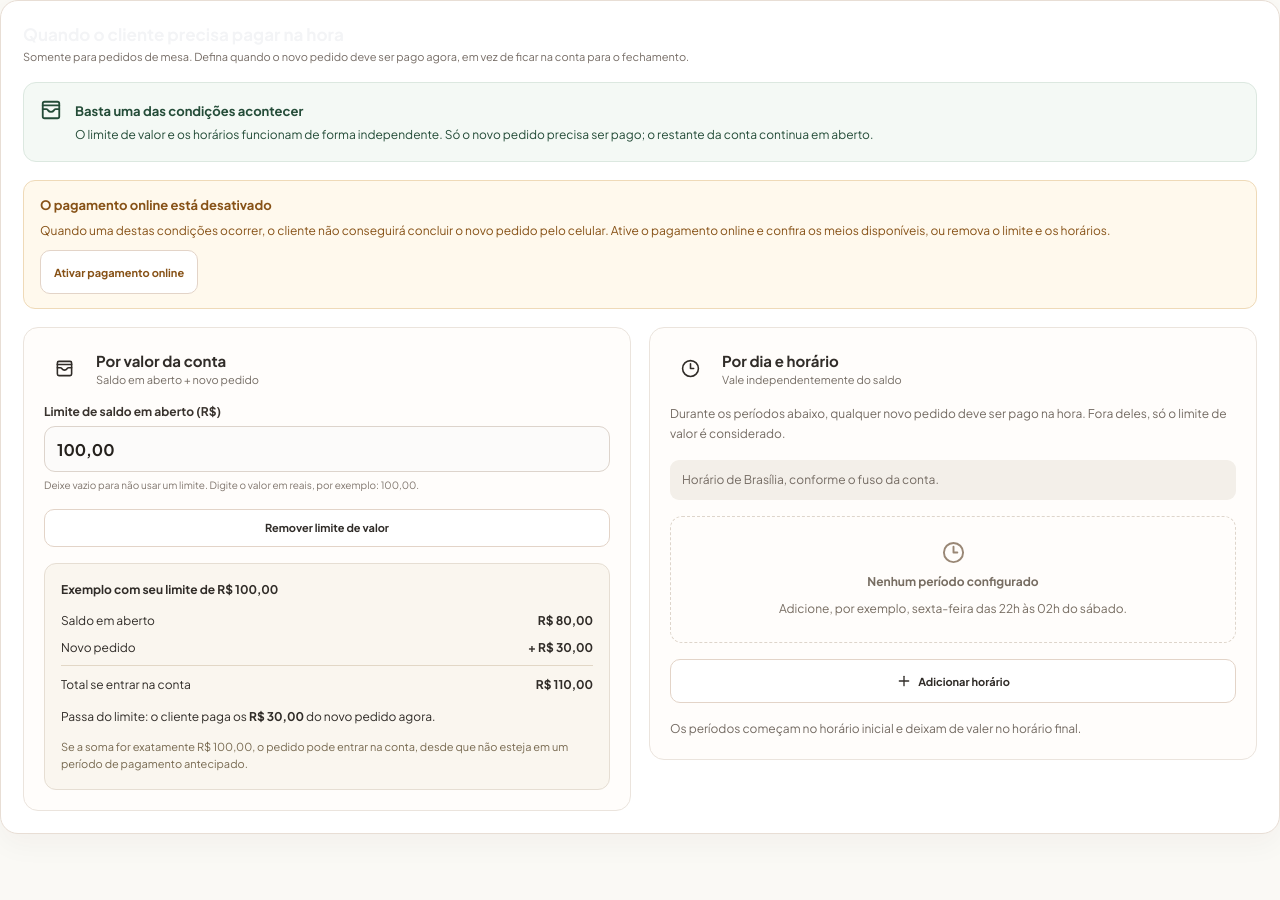
regras de pagamento antecipado da mesa › explica a combinação com pagamento online desligado e deixa o admin ativar
Click the button "Ativar pagamento online" at (119, 272), box [40,250,198,294]
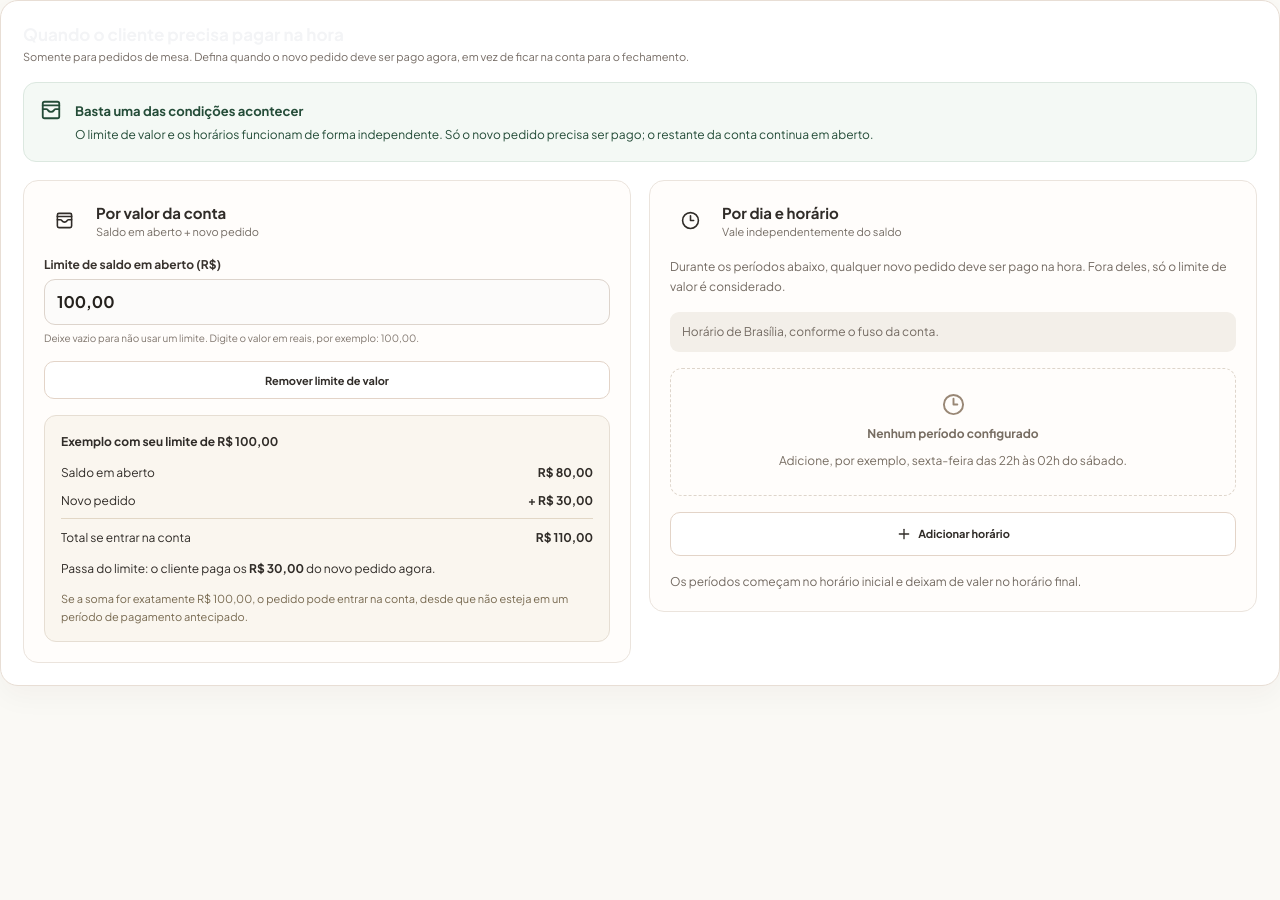
Result: the text "O pagamento online está desativado" is gone
